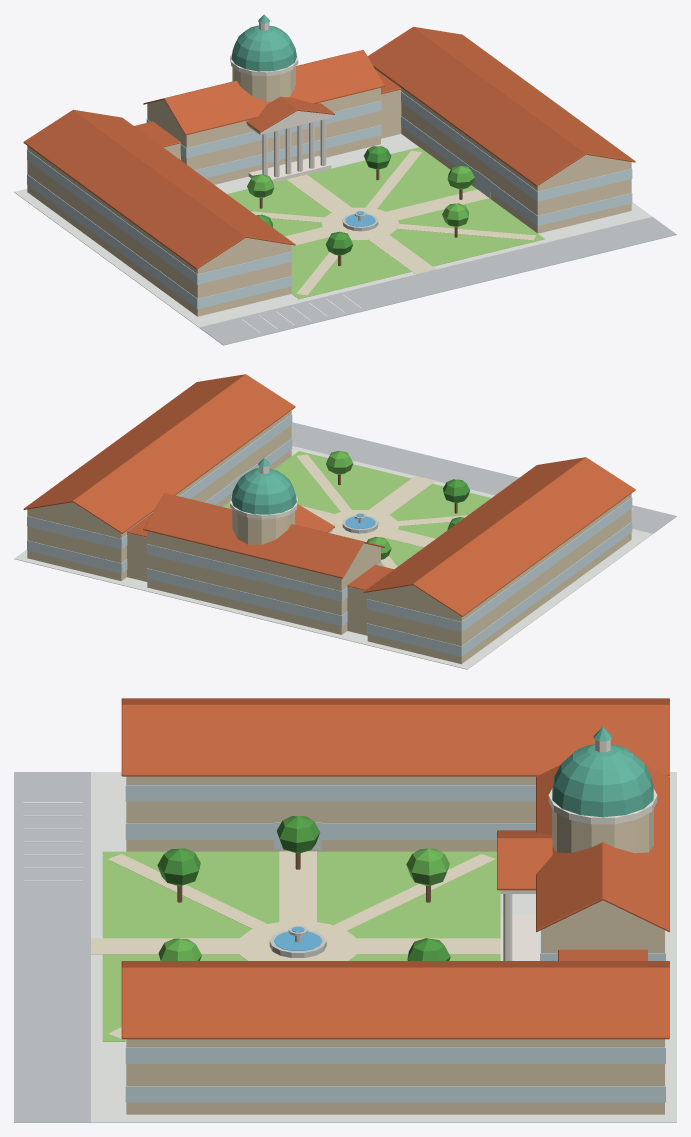
File: university.glb
3 views of the same model, one above another, from view 1: azimuth 30°, elevation 25°; view 2: azimuth 150°, elevation 25°; view 3: azimuth 270°, elevation 25° (orthographic). The views are drawn at different scales.
Visible parts, largest first — view 1: university; view 2: university; view 3: university.
Part boxes in pixels (x1,y1,x2,y2): university: (14, 14, 676, 345); university: (14, 374, 676, 669); university: (14, 698, 676, 1122).
Bounding box in the file's own units: 70 × 20.6 × 56.
